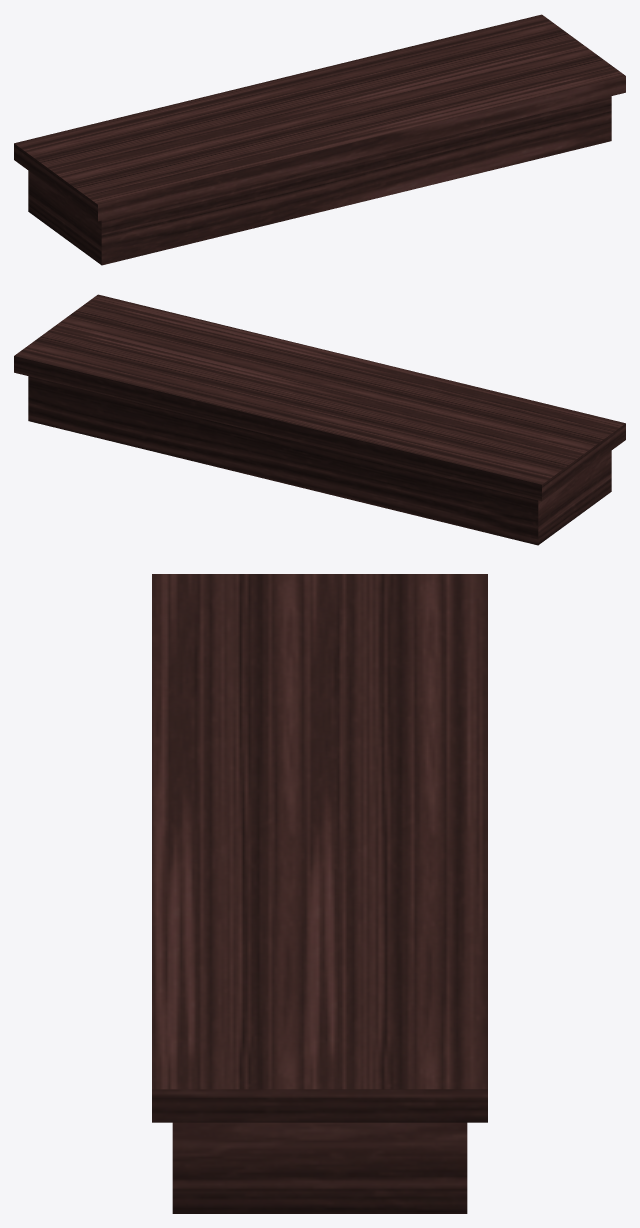
Rendered from Table_Rec.FBX.
3 views of the same model, one above another, from view 1: azimuth 30°, elevation 25°; view 2: azimuth 150°, elevation 25°; view 3: azimuth 270°, elevation 25° (orthographic). The views are drawn at different scales.
Visible parts, largest first — view 1: Box001; view 2: Box001; view 3: Box001.
Part boxes in pixels (x1=…): Box001: x1=14, y1=14, x2=625, y2=265; Box001: x1=14, y1=294, x2=625, y2=545; Box001: x1=152, y1=574, x2=487, y2=1213.
Bounding box in the file's own units: 414 × 50 × 114.
1 material, 1 textured.
